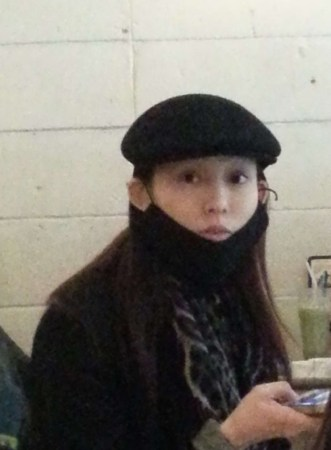face: (152, 131, 256, 265)
